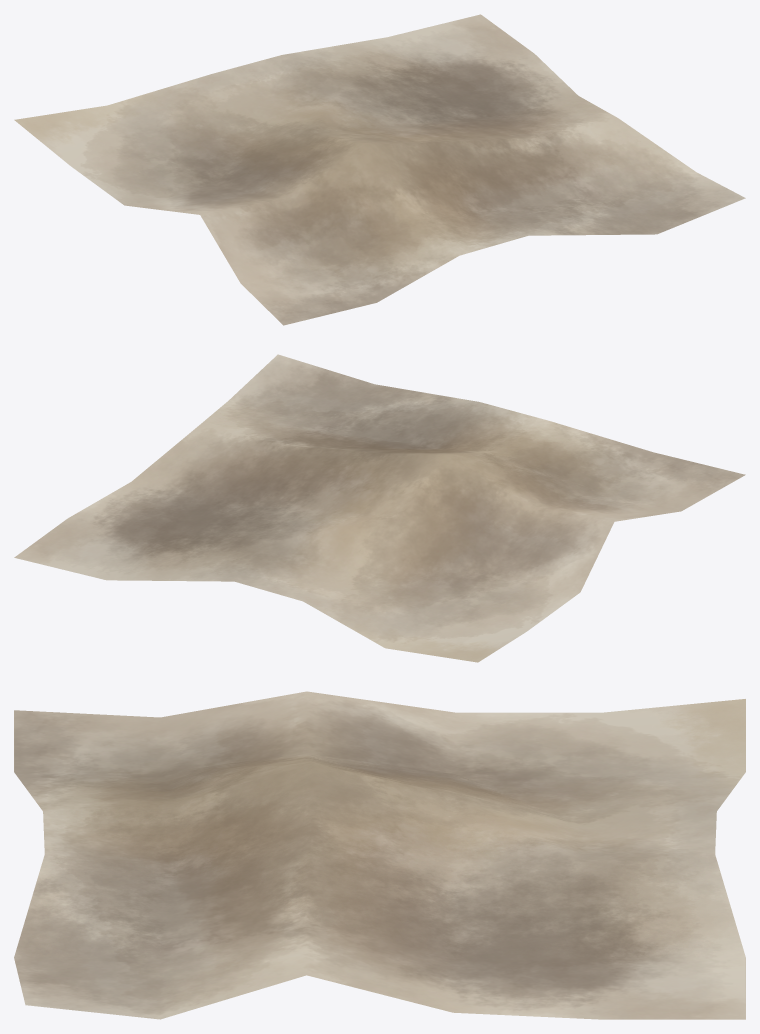
File: rag.fbx
3 renders of one model, top to bottom at view 1: azimuth 30°, elevation 25°; view 2: azimuth 150°, elevation 25°; view 3: azimuth 270°, elevation 25°, orthographic. The views are drawn at different scales.
Visible parts, largest first — view 1: pPlane1; view 2: pPlane1; view 3: pPlane1.
Part boxes in pixels (x1=…): pPlane1: x1=14, y1=14, x2=745, y2=325; pPlane1: x1=14, y1=354, x2=745, y2=662; pPlane1: x1=14, y1=691, x2=745, y2=1019.
Bounding box in the file's own units: 1 × 0.1101 × 1.
1 material, 1 textured.
